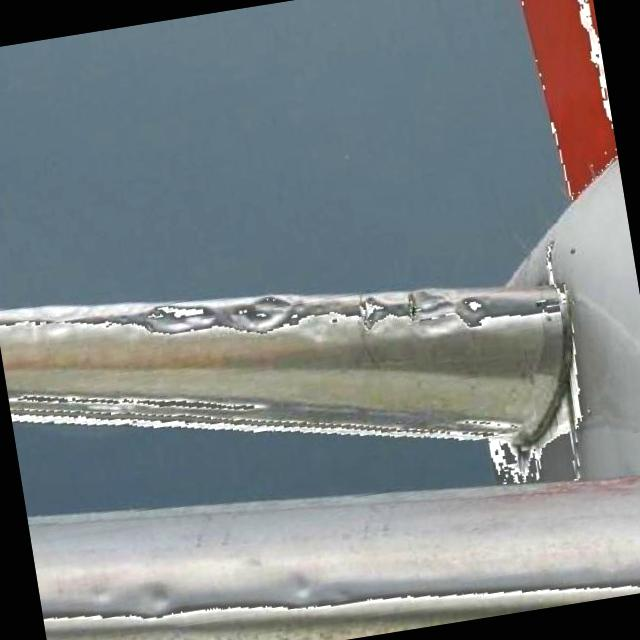dent: (139, 296, 219, 339), (230, 290, 298, 338), (406, 288, 456, 338), (136, 578, 178, 622), (285, 567, 321, 604)
